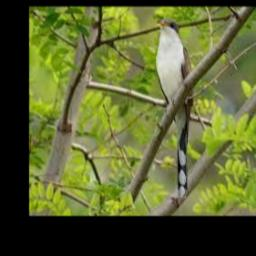Cuckoo: (155, 19, 192, 199)
